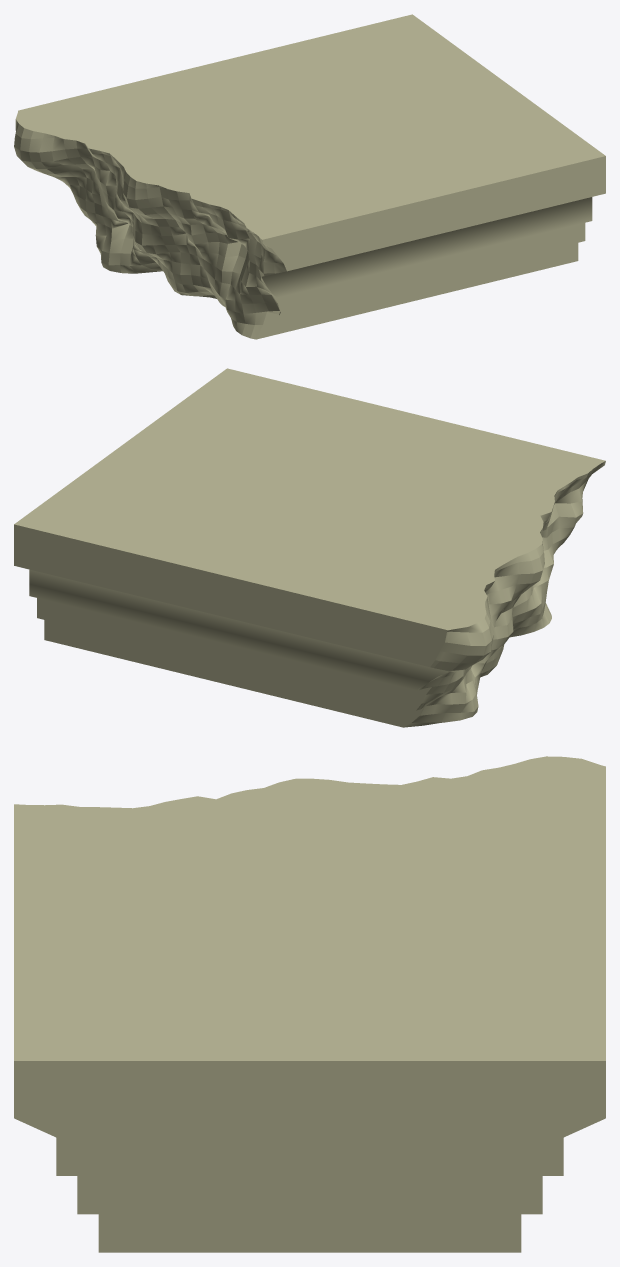
Rendered from M_Architrave_D11_1.fbx.
The picture shows the model from 3 angles, top to bottom: view 1: azimuth 30°, elevation 25°; view 2: azimuth 150°, elevation 25°; view 3: azimuth 270°, elevation 25°; orthographic projection. The views are drawn at different scales.
Visible parts, largest first — view 1: M_Architrave; view 2: M_Architrave; view 3: M_Architrave.
Boxes of the visible parts, <box> form: M_Architrave: <box>14,14,605,339</box>; M_Architrave: <box>14,368,605,727</box>; M_Architrave: <box>14,756,605,1252</box>.
Size of the model in its own units: 4.32 by 1.25 by 3.5.
